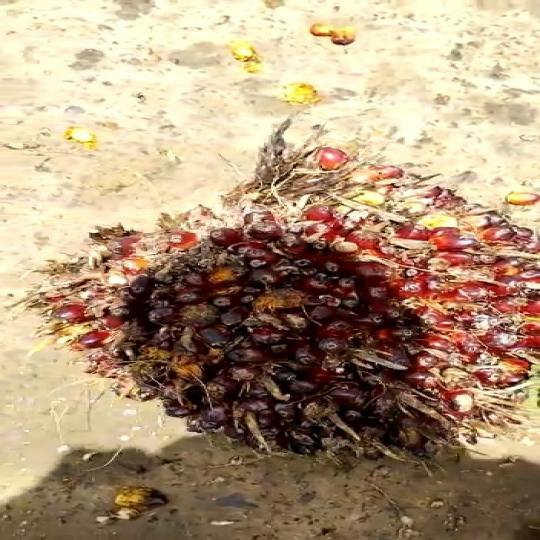masak: (35, 144, 540, 466)
